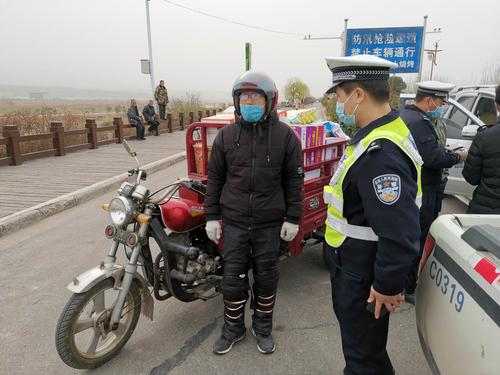driver: (168, 61, 326, 365)
only_driver: (62, 33, 354, 371)
